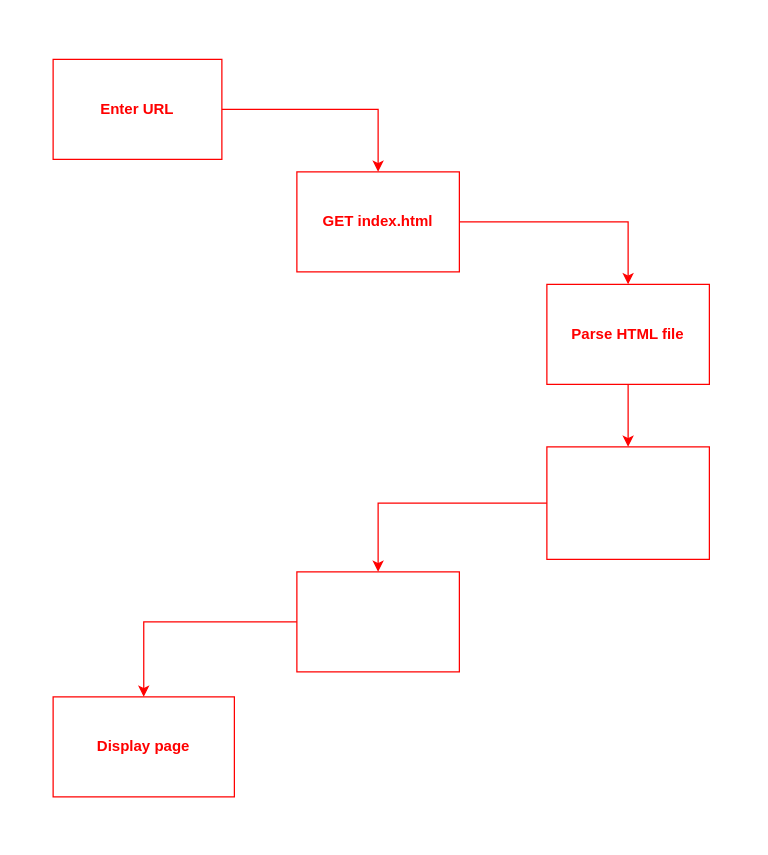
Some shapes in this 768 by 855 pixel diagram are drawn without their labels. Here are the shapes that lost their labels. From the top down, the centre of each, then its label:
At (x=627, y=502): "GET other resources (images, CSS stylesheets, JS scripts, ...)".
At (x=377, y=621): "Browser Render Engine".
